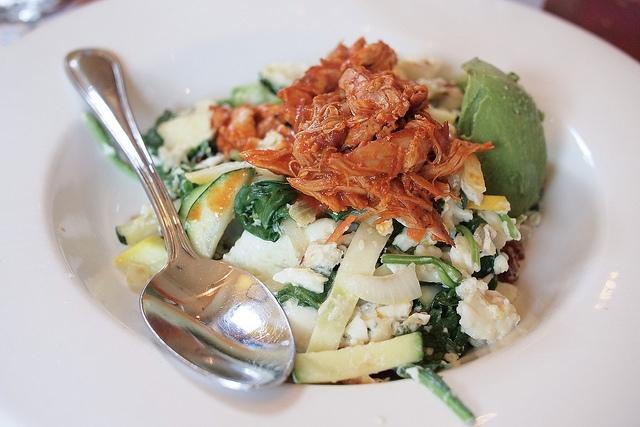avocado: (456, 57, 546, 218)
